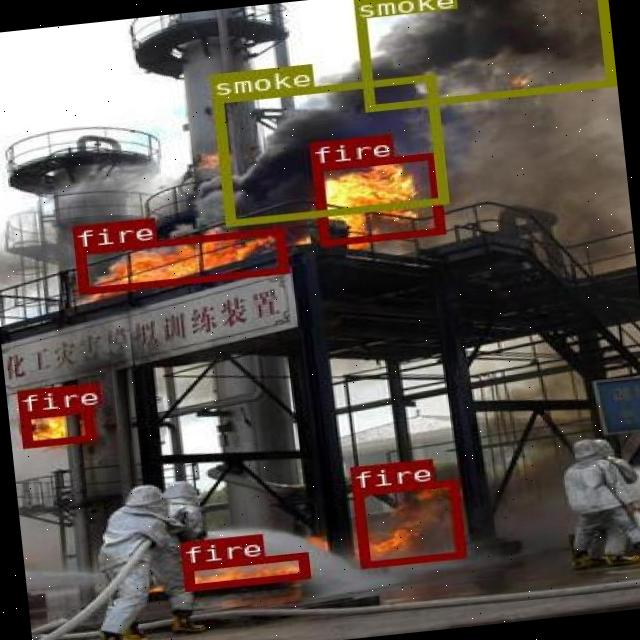fire: (73, 226, 286, 294), (310, 151, 442, 245), (351, 478, 464, 568), (182, 552, 308, 590), (18, 406, 93, 446)
smoke: (211, 74, 445, 225), (351, 0, 613, 109)
